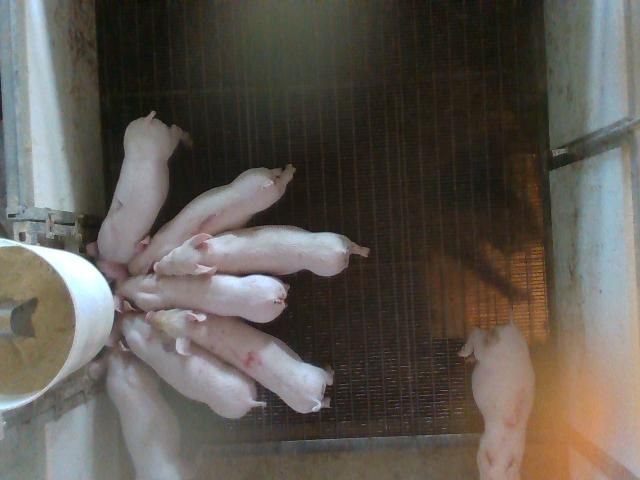pig-1: (129, 164, 295, 276)
pig-3: (464, 324, 535, 478)
pig-4: (146, 309, 334, 413)
